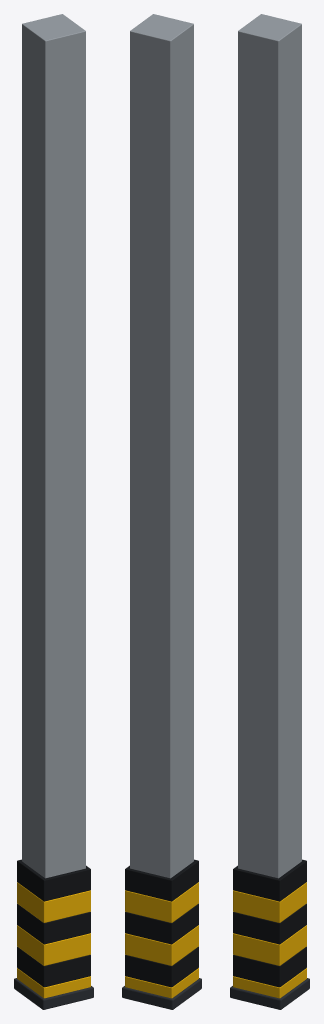
The model's file is column.glb.
3 views of the same model, side by side, from view 1: azimuth 30°, elevation 25°; view 2: azimuth 150°, elevation 25°; view 3: azimuth 330°, elevation 25° (orthographic).
Parts seen in each view (by area): view 1: column; view 2: column; view 3: column.
Part boxes in pixels (x1,y1,x2,y2): column: [14, 14, 93, 1009]; column: [122, 14, 201, 1009]; column: [230, 14, 309, 1009].
Bounding box in the file's own units: 0.5 × 9 × 0.5.
